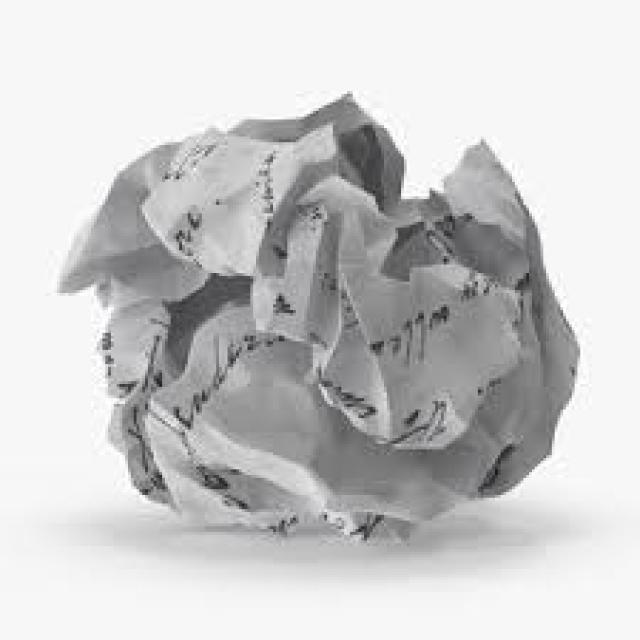paper: (52, 88, 578, 543)
